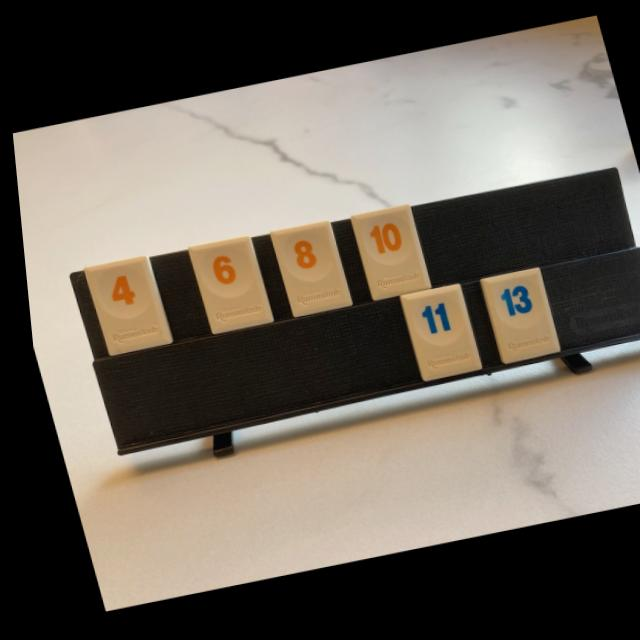blue_11: (394, 286, 473, 381)
blue_13: (474, 270, 551, 364)
orange_10: (347, 207, 424, 300)
orange_4: (79, 257, 166, 355)
orange_6: (184, 237, 266, 333)
orange_8: (265, 221, 344, 316)
